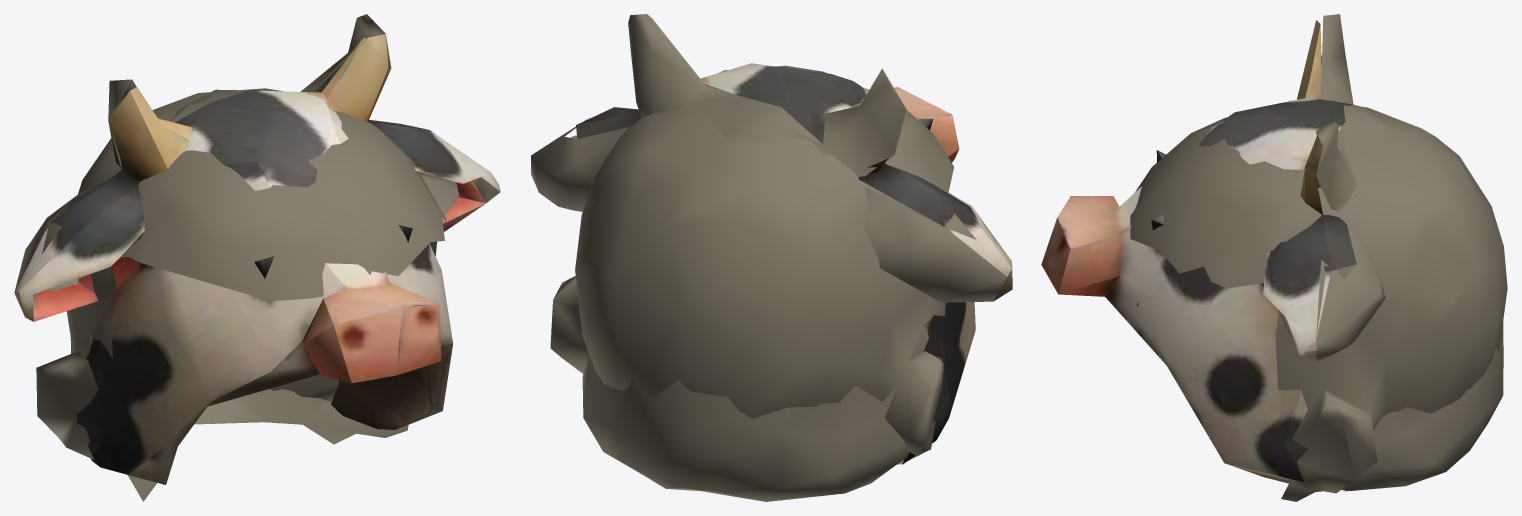
The model's file is cow.glb.
3 renders of one model, left to right at view 1: azimuth 30°, elevation 25°; view 2: azimuth 150°, elevation 25°; view 3: azimuth 270°, elevation 25°, orthographic. The views are drawn at different scales.
Visible parts, largest first — view 1: geometry_0, HoodAnatomicalLining; view 2: HoodAnatomicalLining, geometry_0; view 3: geometry_0, HoodAnatomicalLining.
Boxes of the visible parts, x1,y1,x2,y2 form: geometry_0: (14, 14, 500, 484); HoodAnatomicalLining: (36, 88, 446, 501); HoodAnatomicalLining: (550, 65, 953, 464); geometry_0: (531, 14, 1012, 501); geometry_0: (1041, 14, 1503, 491); HoodAnatomicalLining: (1130, 100, 1507, 501).
Bounding box in the file's own units: 0.5823 × 0.4817 × 0.527.
Materials: 2 (1 with a texture image).
